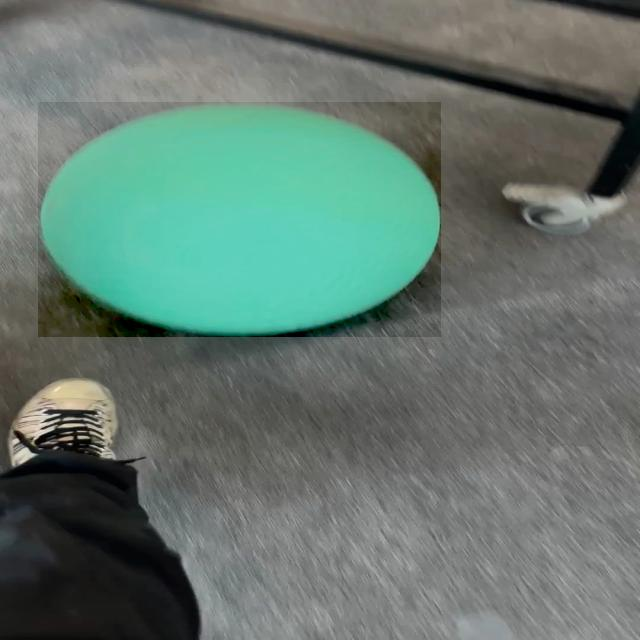Algae: (38, 102, 441, 337)
